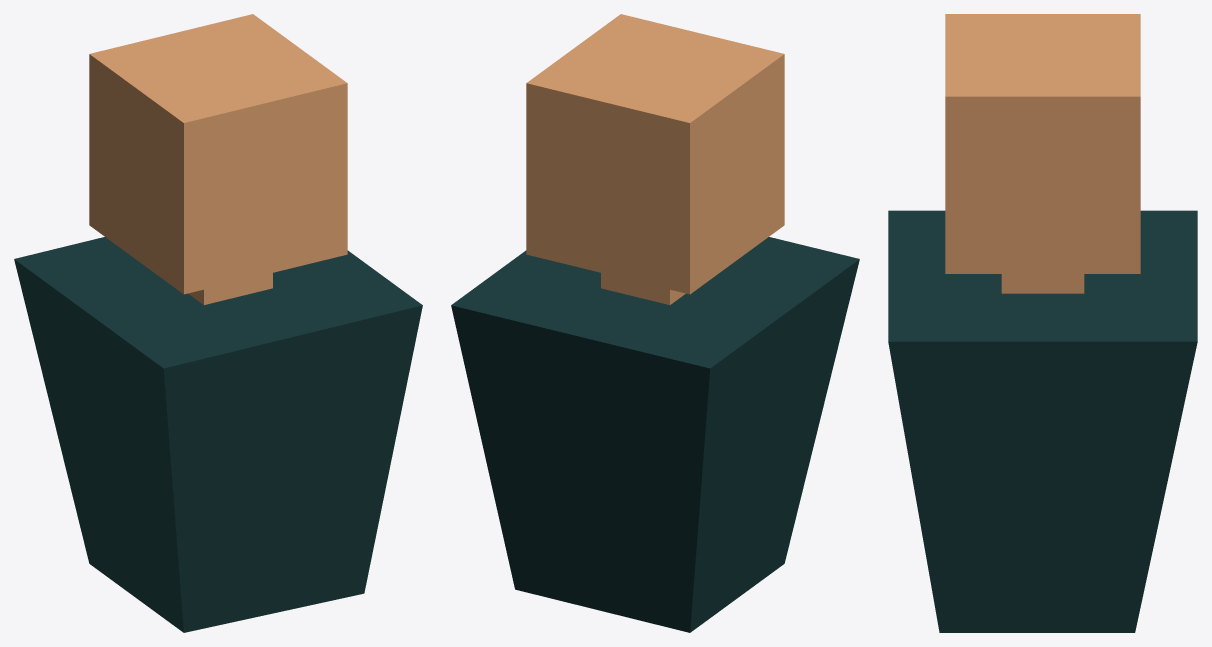
Rendered from character4.fbx.
The picture shows the model from 3 angles, left to right: view 1: azimuth 30°, elevation 25°; view 2: azimuth 150°, elevation 25°; view 3: azimuth 270°, elevation 25°; orthographic projection. The views are drawn at different scales.
Parts seen in each view (by area): view 1: Cube, Cube.002, Cube.001; view 2: Cube, Cube.002, Cube.001; view 3: Cube, Cube.002, Cube.001.
Part boxes in pixels (box(x1,y1,x2,y2)): Cube: box(14, 237, 422, 632); Cube.002: box(89, 14, 347, 294); Cube.001: box(188, 273, 272, 304); Cube: box(451, 237, 859, 632); Cube.002: box(526, 14, 784, 294); Cube.001: box(601, 273, 685, 304); Cube: box(888, 210, 1197, 632); Cube.002: box(945, 14, 1140, 273); Cube.001: box(1001, 274, 1084, 293).
Size of the model in its own units: 3.17 by 5.97 by 3.17.
